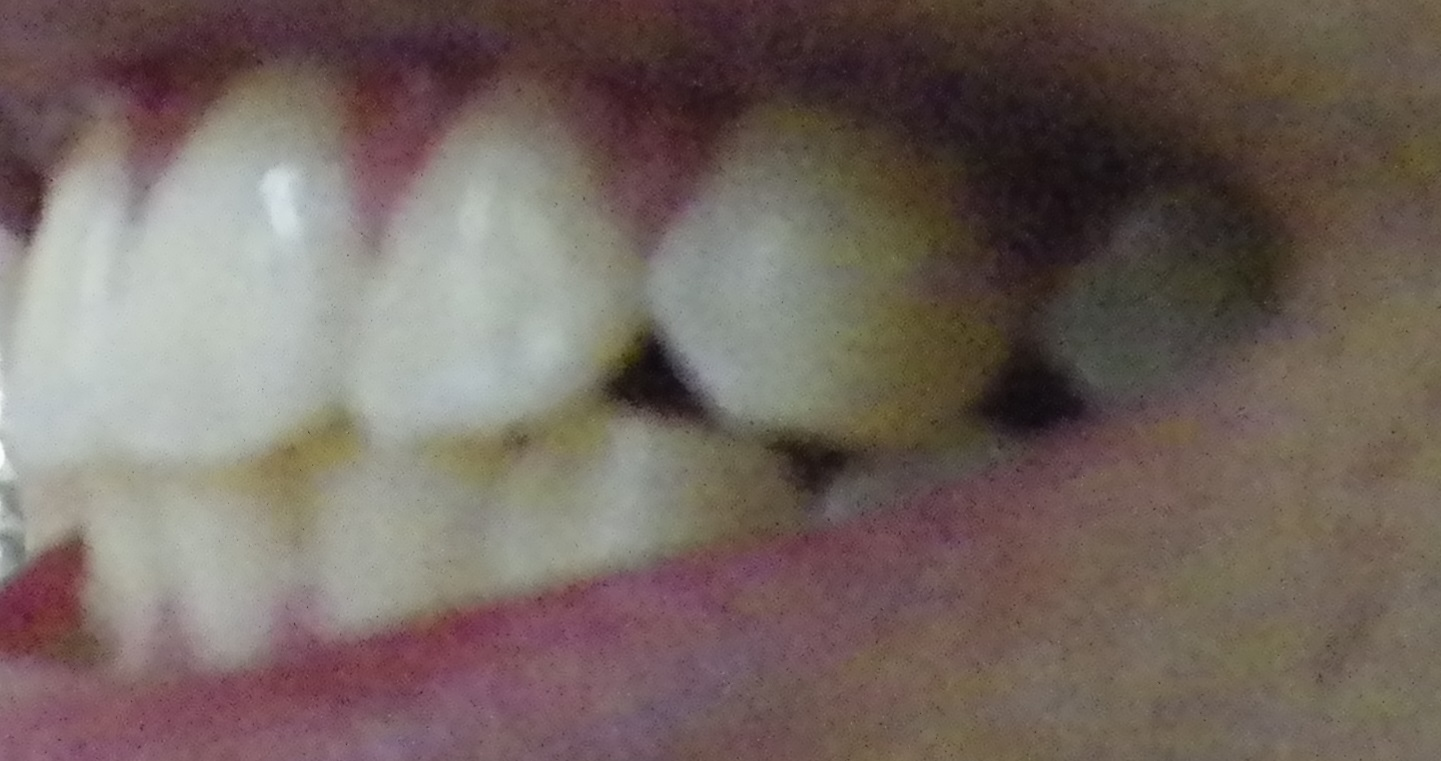boca: (1, 91, 1274, 662)
